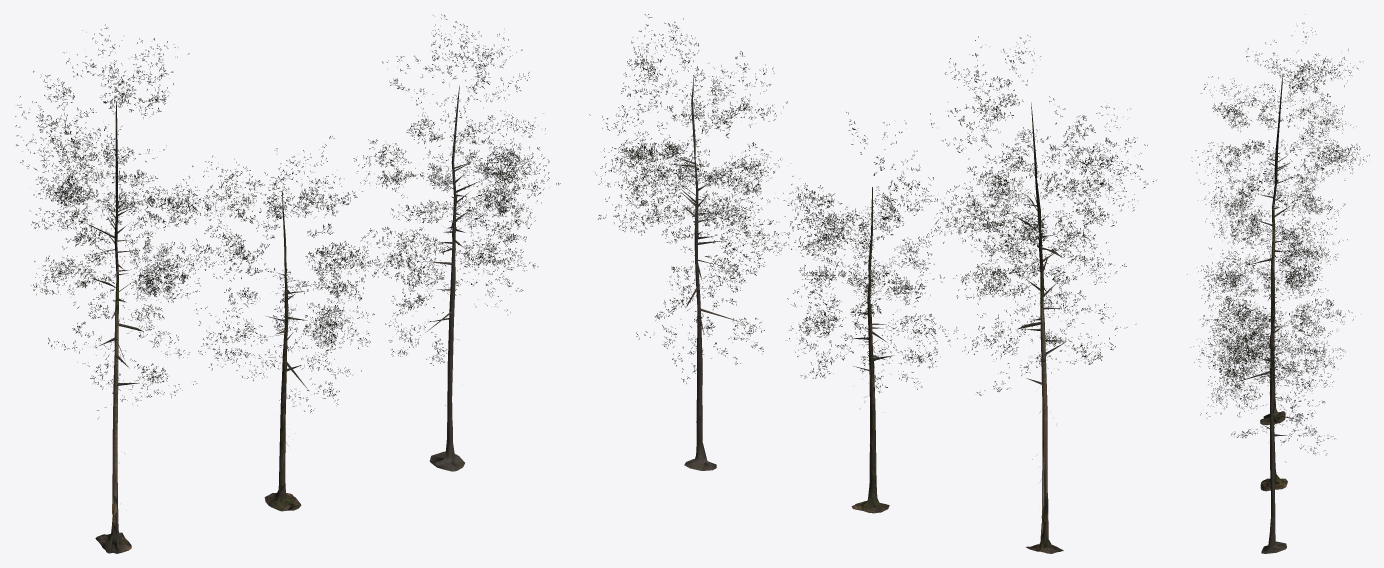
Rendered from pine_tree_01.glb.
The picture shows the model from 3 angles, left to right: view 1: azimuth 30°, elevation 25°; view 2: azimuth 150°, elevation 25°; view 3: azimuth 270°, elevation 25°; orthographic projection. The views are drawn at different scales.
Parts seen in each view (by area): view 1: pine_tree_01_a_LOD0, pine_tree_01_c_LOD0, pine_tree_01_b_LOD0; view 2: pine_tree_01_a_LOD0, pine_tree_01_c_LOD0, pine_tree_01_b_LOD0; view 3: pine_tree_01_a_LOD0, pine_tree_01_c_LOD0, pine_tree_01_b_LOD0.
Part boxes in pixels (left/top/right/bottom): pine_tree_01_a_LOD0: left=15, top=24, right=234, bottom=553; pine_tree_01_c_LOD0: left=353, top=14, right=560, bottom=471; pine_tree_01_b_LOD0: left=184, top=136, right=386, bottom=511; pine_tree_01_a_LOD0: left=930, top=35, right=1156, bottom=553; pine_tree_01_c_LOD0: left=589, top=14, right=794, bottom=470; pine_tree_01_b_LOD0: left=774, top=112, right=958, bottom=513; pine_tree_01_a_LOD0: left=1191, top=14, right=1369, bottom=424; pine_tree_01_c_LOD0: left=1190, top=210, right=1355, bottom=553; pine_tree_01_b_LOD0: left=1187, top=194, right=1347, bottom=491.
Size of the model in its own units: 21.65 by 20.17 by 8.26.
6 materials, 6 textured.
